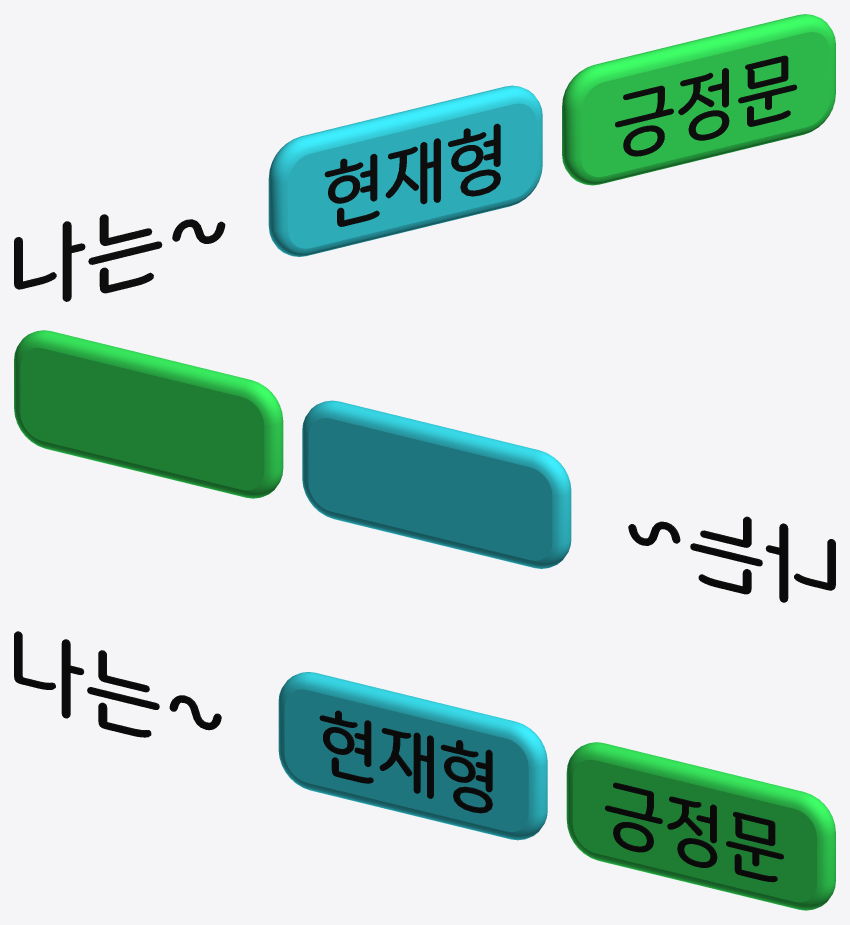
Rendered from #10_Obj_TextBox_001.FBX.
3 views of the same model, one above another, from view 1: azimuth 30°, elevation 25°; view 2: azimuth 150°, elevation 25°; view 3: azimuth 330°, elevation 25° (orthographic).
Visible parts, largest first — view 1: textbox_002, textbox_001, Text003, Text004, Text002; view 2: textbox_001, textbox_002, Text002; view 3: textbox_002, textbox_001, Text003, Text004, Text002.
Part boxes in pixels (x1,y1,x2,y2): textbox_002: [562, 14, 835, 185]; textbox_001: [268, 85, 542, 256]; Text003: [324, 123, 500, 226]; Text004: [615, 55, 797, 156]; Text002: [14, 214, 225, 301]; textbox_001: [302, 400, 571, 568]; textbox_002: [14, 330, 283, 498]; Text002: [628, 516, 835, 602]; textbox_002: [566, 742, 835, 910]; textbox_001: [278, 672, 547, 840]; Text003: [319, 710, 492, 813]; Text004: [605, 782, 783, 882]; Text002: [14, 631, 221, 737].
Bounding box in the file's own units: 3666 × 110 × 500.
